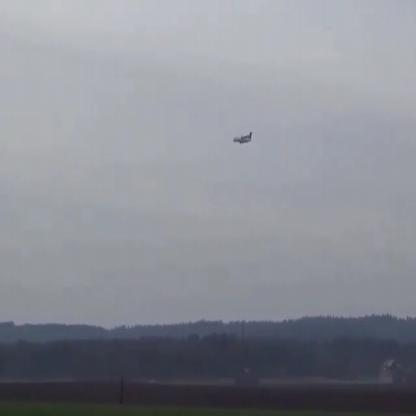CIV_Plane: (233, 132, 253, 146)
